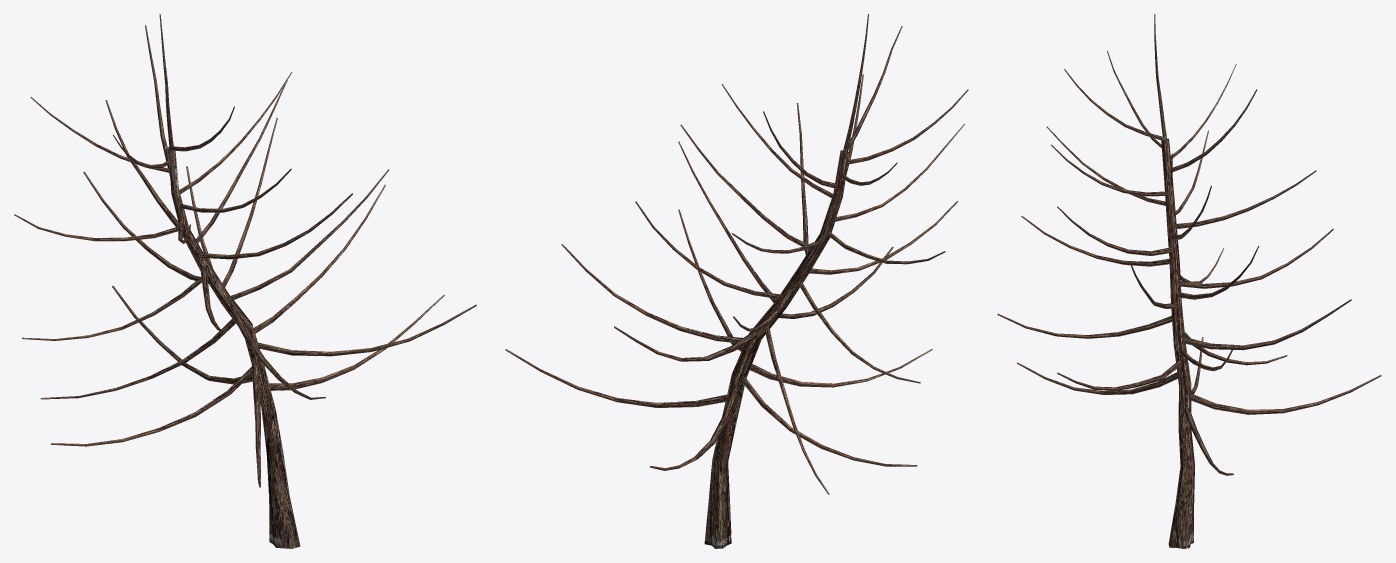
The model's file is TreeBark.fbx.
3 renders of one model, left to right at view 1: azimuth 30°, elevation 25°; view 2: azimuth 150°, elevation 25°; view 3: azimuth 270°, elevation 25°, orthographic. The views are drawn at different scales.
Parts seen in each view (by area): view 1: treeBark; view 2: treeBark; view 3: treeBark.
Boxes of the visible parts, x1,y1,x2,y2 form: treeBark: (14,14,476,548); treeBark: (505,14,968,548); treeBark: (997,14,1381,548).
Size of the model in its own units: 14.92 by 18.41 by 13.54.
Materials: 1 (1 with a texture image).
